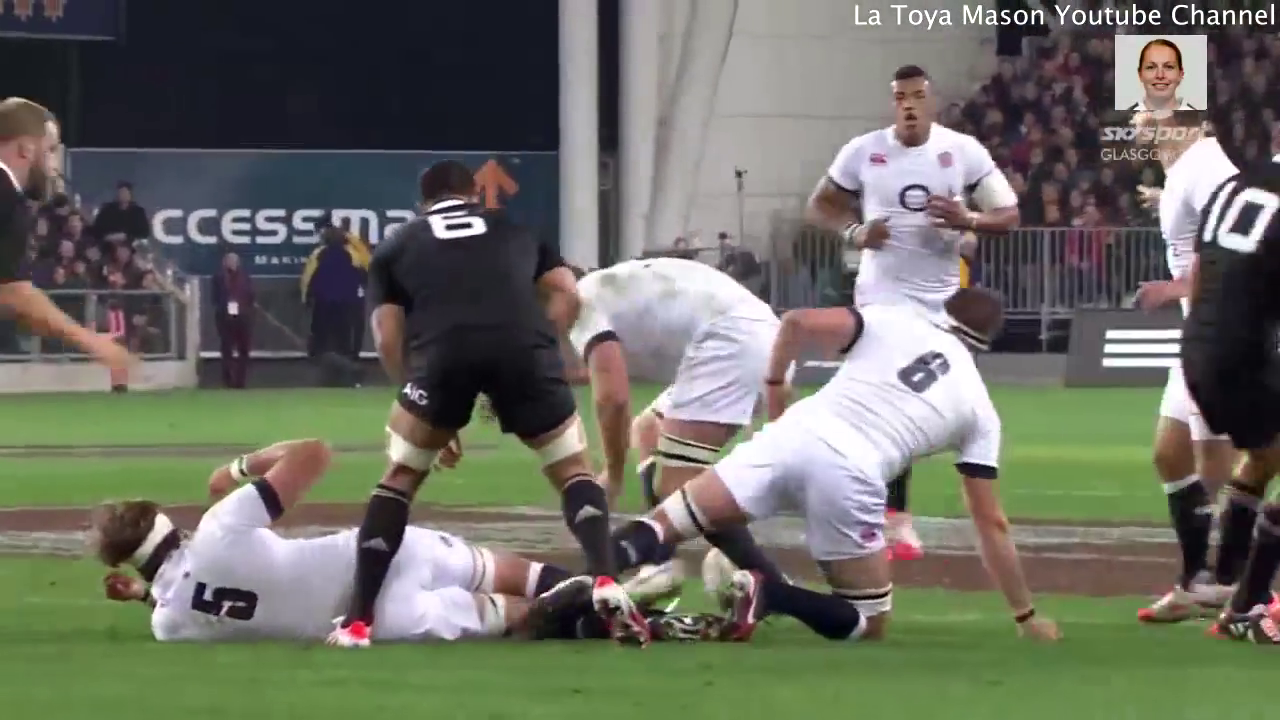player: (332, 127, 662, 671), (585, 274, 1022, 641), (73, 426, 760, 659), (530, 237, 801, 520), (789, 63, 1029, 348), (1175, 141, 1280, 667)
